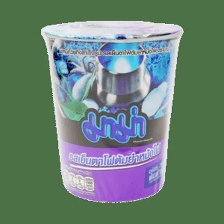paper_cup: (34, 13, 187, 208)
